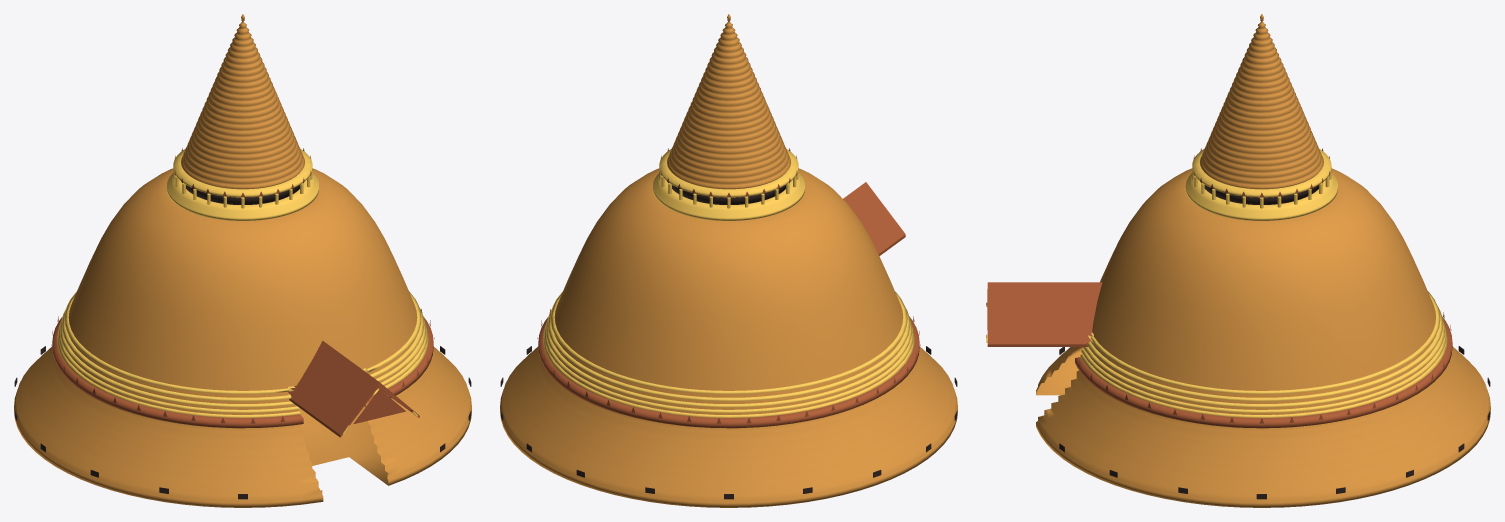
The model's file is HNP_Chedi_M01_Core_v004.fbx.
3 renders of one model, left to right at view 1: azimuth 30°, elevation 25°; view 2: azimuth 150°, elevation 25°; view 3: azimuth 270°, elevation 25°, orthographic.
Visible parts, largest first — view 1: HNP_Chedi_v004_M01_Core__HNP_Chedi_GoldTile, HNP_Chedi_v004_M01_Core__HNP_Chedi_GoldTrim, HNP_Chedi_v004_M01_Core__HNP_Chedi_Terracotta, HNP_Chedi_v004_M01_Core__HNP_Chedi_DarkInset; view 2: HNP_Chedi_v004_M01_Core__HNP_Chedi_GoldTile, HNP_Chedi_v004_M01_Core__HNP_Chedi_GoldTrim, HNP_Chedi_v004_M01_Core__HNP_Chedi_Terracotta, HNP_Chedi_v004_M01_Core__HNP_Chedi_DarkInset; view 3: HNP_Chedi_v004_M01_Core__HNP_Chedi_GoldTile, HNP_Chedi_v004_M01_Core__HNP_Chedi_GoldTrim, HNP_Chedi_v004_M01_Core__HNP_Chedi_Terracotta, HNP_Chedi_v004_M01_Core__HNP_Chedi_DarkInset.
Boxes of the visible parts, x1=… form: HNP_Chedi_v004_M01_Core__HNP_Chedi_GoldTile: x1=14, y1=14, x2=471, y2=507; HNP_Chedi_v004_M01_Core__HNP_Chedi_GoldTrim: x1=57, y1=149, x2=428, y2=434; HNP_Chedi_v004_M01_Core__HNP_Chedi_Terracotta: x1=51, y1=148, x2=434, y2=437; HNP_Chedi_v004_M01_Core__HNP_Chedi_DarkInset: x1=14, y1=182, x2=471, y2=499; HNP_Chedi_v004_M01_Core__HNP_Chedi_GoldTile: x1=500, y1=14, x2=957, y2=507; HNP_Chedi_v004_M01_Core__HNP_Chedi_GoldTrim: x1=543, y1=149, x2=914, y2=417; HNP_Chedi_v004_M01_Core__HNP_Chedi_Terracotta: x1=537, y1=148, x2=920, y2=428; HNP_Chedi_v004_M01_Core__HNP_Chedi_DarkInset: x1=500, y1=182, x2=957, y2=499; HNP_Chedi_v004_M01_Core__HNP_Chedi_GoldTile: x1=1036, y1=14, x2=1490, y2=507; HNP_Chedi_v004_M01_Core__HNP_Chedi_GoldTrim: x1=986, y1=149, x2=1447, y2=417; HNP_Chedi_v004_M01_Core__HNP_Chedi_Terracotta: x1=987, y1=148, x2=1452, y2=428; HNP_Chedi_v004_M01_Core__HNP_Chedi_DarkInset: x1=1059, y1=182, x2=1490, y2=499.
Bounding box in the file's own units: 46.4 × 44 × 50.7.
